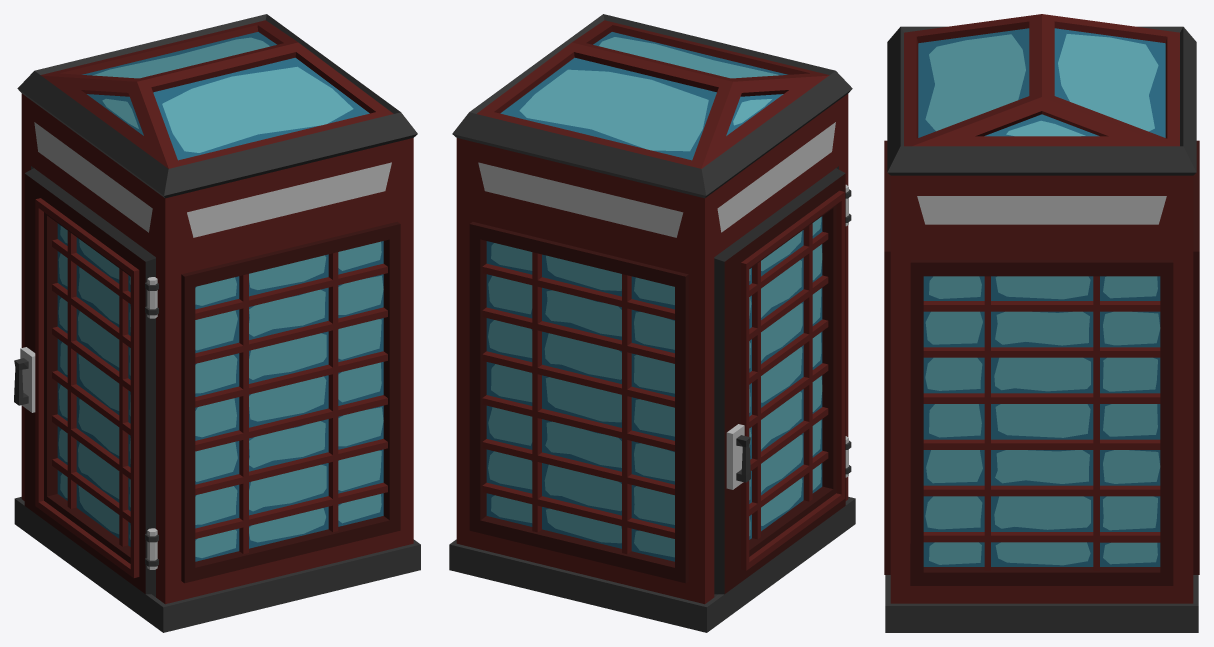
Rendered from Phone_box_01.FBX.
3 renders of one model, left to right at view 1: azimuth 30°, elevation 25°; view 2: azimuth 150°, elevation 25°; view 3: azimuth 270°, elevation 25°, orthographic. The views are drawn at different scales.
Visible parts, largest first — view 1: Phone_box_01; view 2: Phone_box_01; view 3: Phone_box_01.
Part boxes in pixels (x1,y1,x2,y2): Phone_box_01: (14,14,420,632); Phone_box_01: (449,14,855,632); Phone_box_01: (884,14,1199,632).
Bounding box in the file's own units: 1.87 × 3.11 × 1.74.
